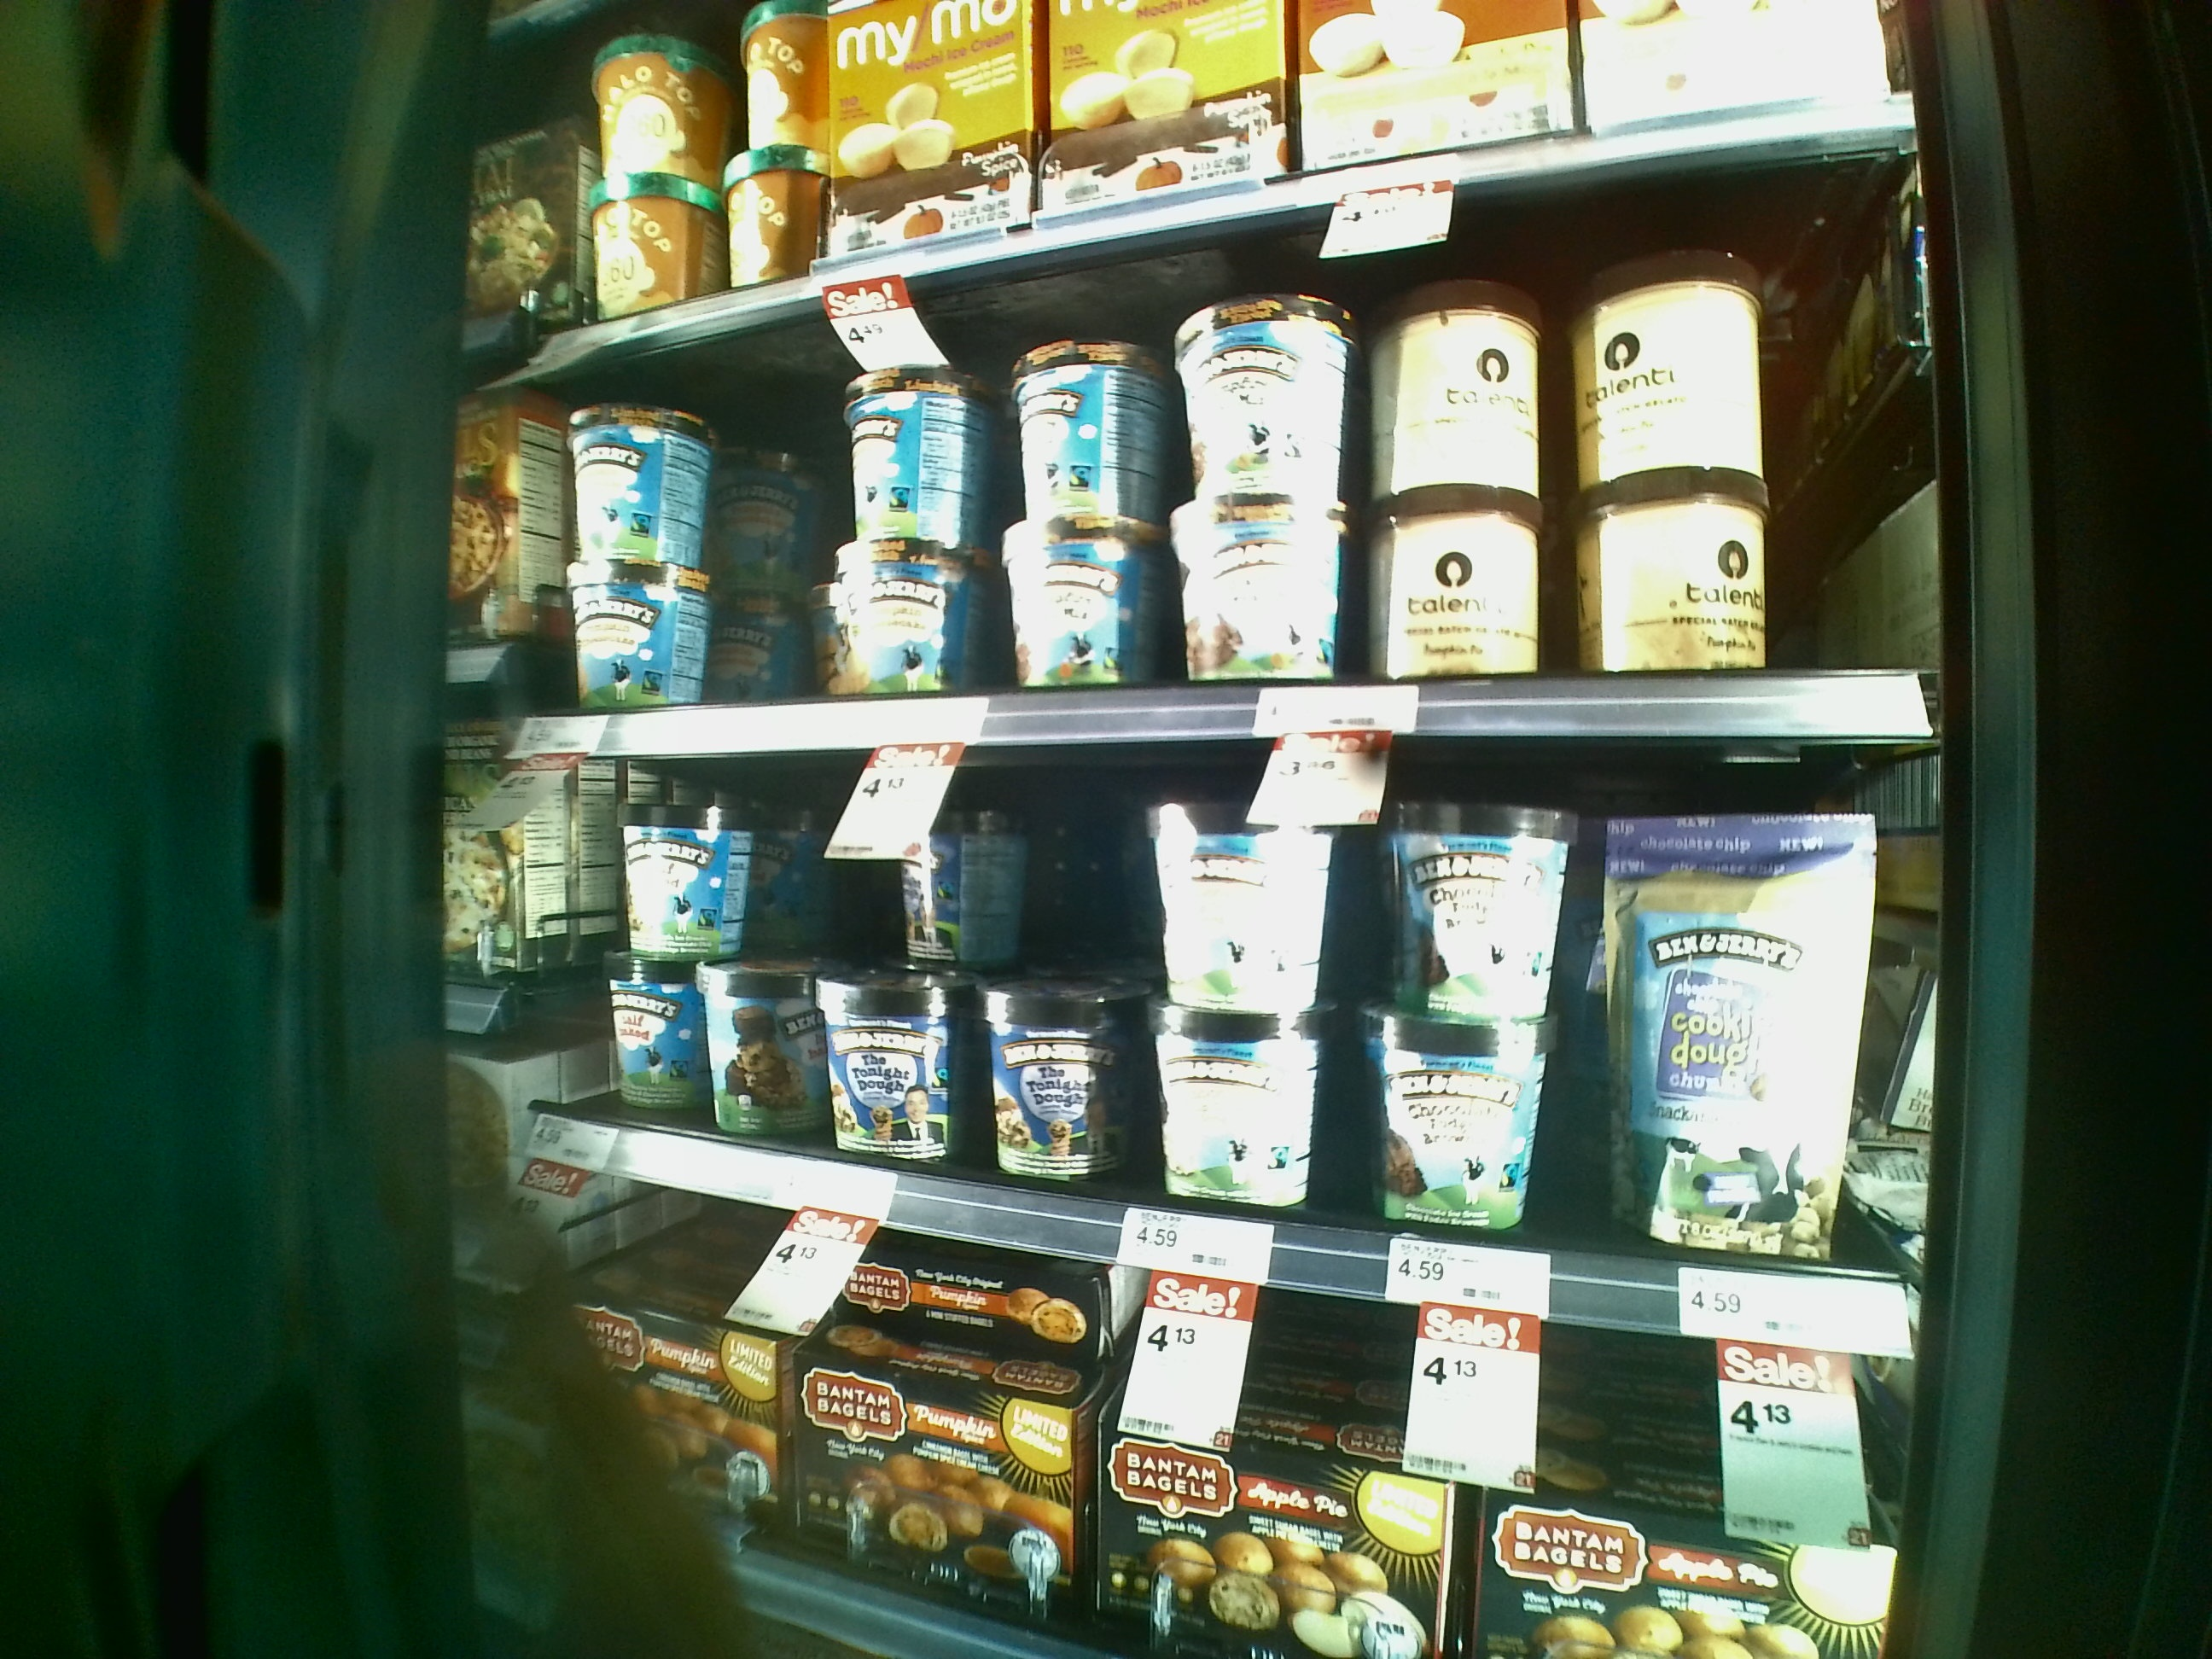shelf: (516, 708, 1914, 1345), (529, 319, 1930, 748)
